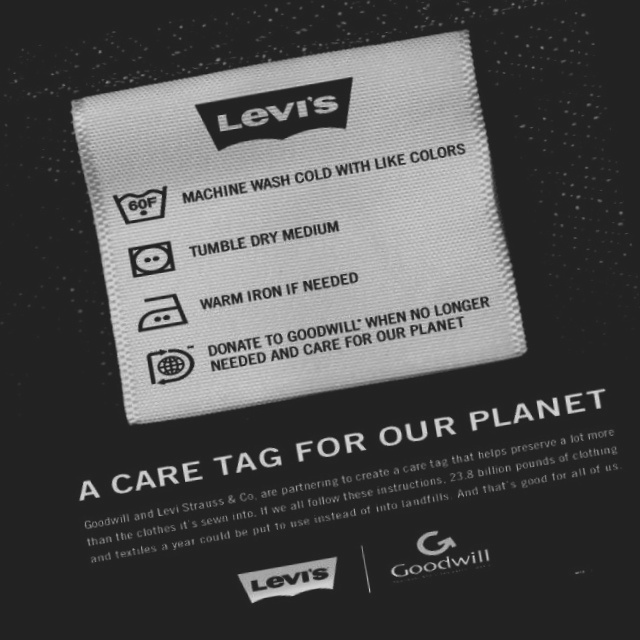30C: (109, 176, 177, 231)
iron_medium: (129, 286, 194, 339)
tumble_dry_medium: (122, 237, 182, 284)
